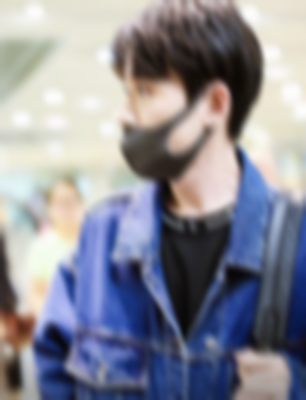mask_weared_incorrect: (116, 72, 200, 182)
